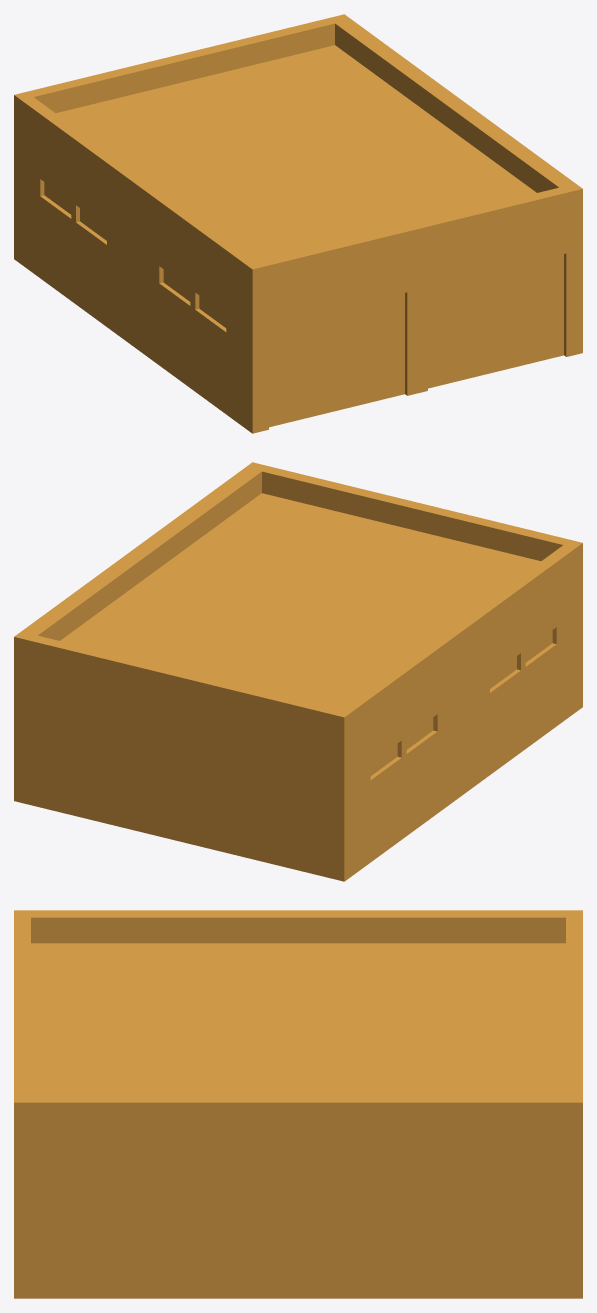
Rendered from building-policestation-garage.glb.
3 renders of one model, top to bottom at view 1: azimuth 30°, elevation 25°; view 2: azimuth 150°, elevation 25°; view 3: azimuth 270°, elevation 25°, orthographic. The views are drawn at different scales.
Visible parts, largest first — view 1: building-policestation-garage; view 2: building-policestation-garage; view 3: building-policestation-garage.
Boxes of the visible parts, bbox=[...] form: building-policestation-garage: bbox=[14, 14, 582, 433]; building-policestation-garage: bbox=[14, 462, 582, 881]; building-policestation-garage: bbox=[14, 910, 582, 1298].
Size of the model in its own units: 8 by 3.8 by 10.
